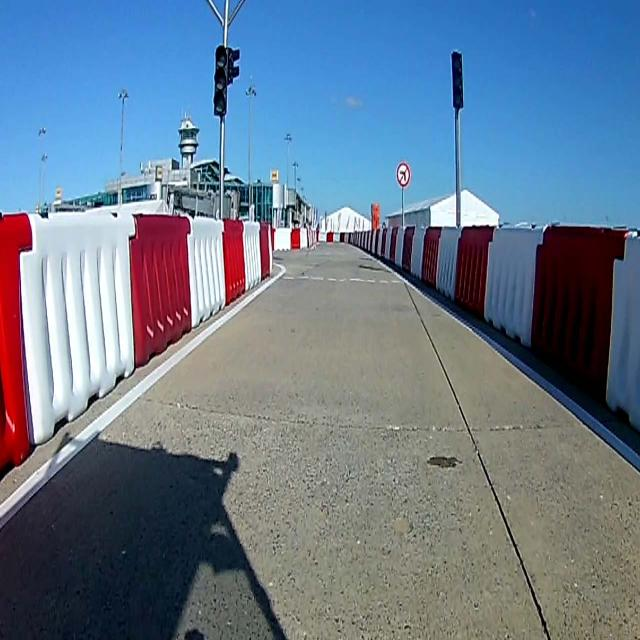soladonulmez: (395, 160, 411, 187)
